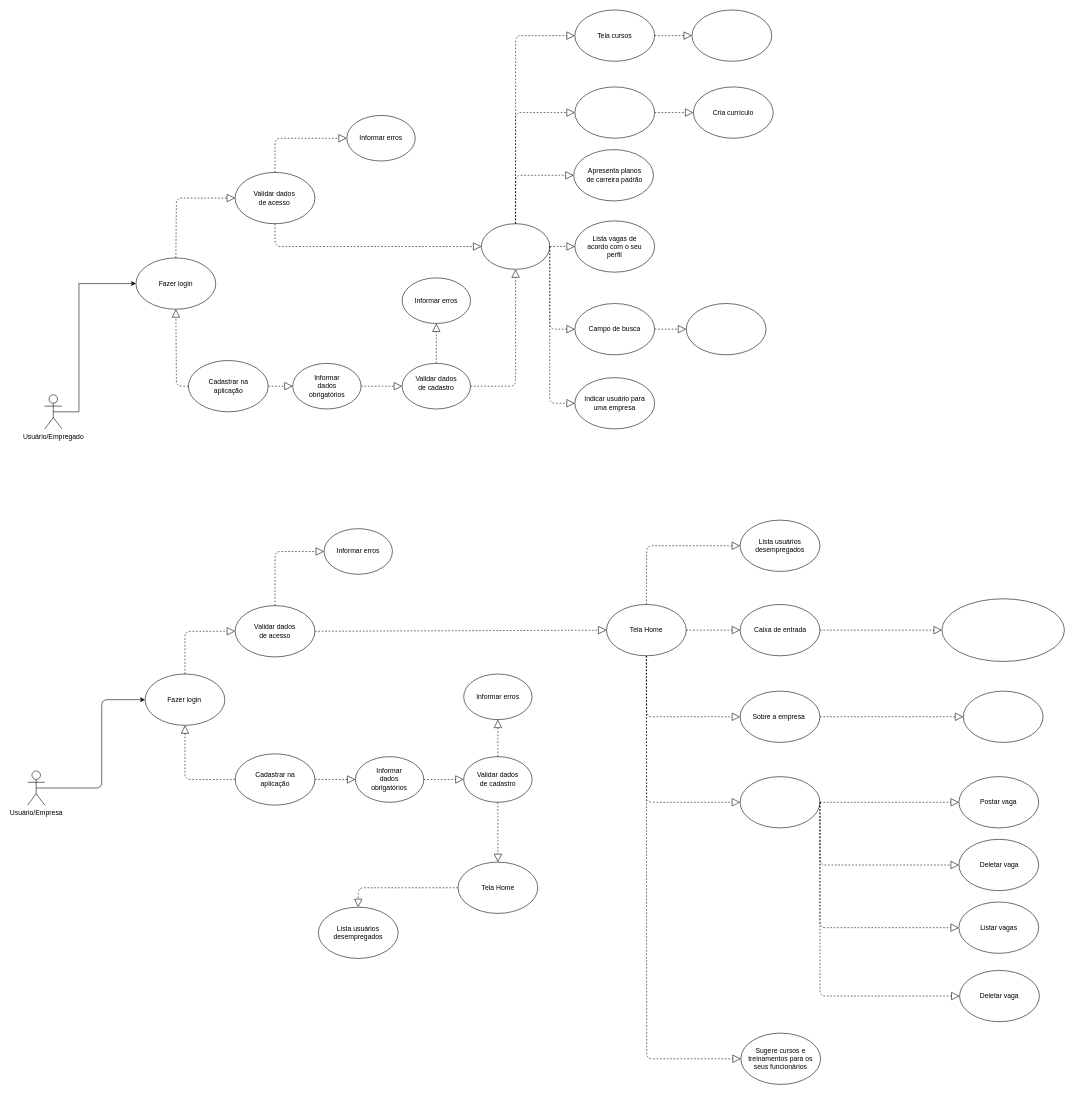
This 1074x1094 diagram has some shape labels left out. The centre of each missing label's shape, as x and y in pixels:
Busca vagas de emprego(filtra por cargo, cidade,salário): the point at 726,329
Filtra a caixa de entrada de currículos de acordo com a preferência da Empresa: the point at 1002,629
Ir para a tela home: the point at 515,246
Política da empresa: the point at 1003,716
Sugere cursos de acordo com o perfil do usuário: the point at 731,35
Tela currículo: the point at 614,112
Vagas: the point at 780,802
